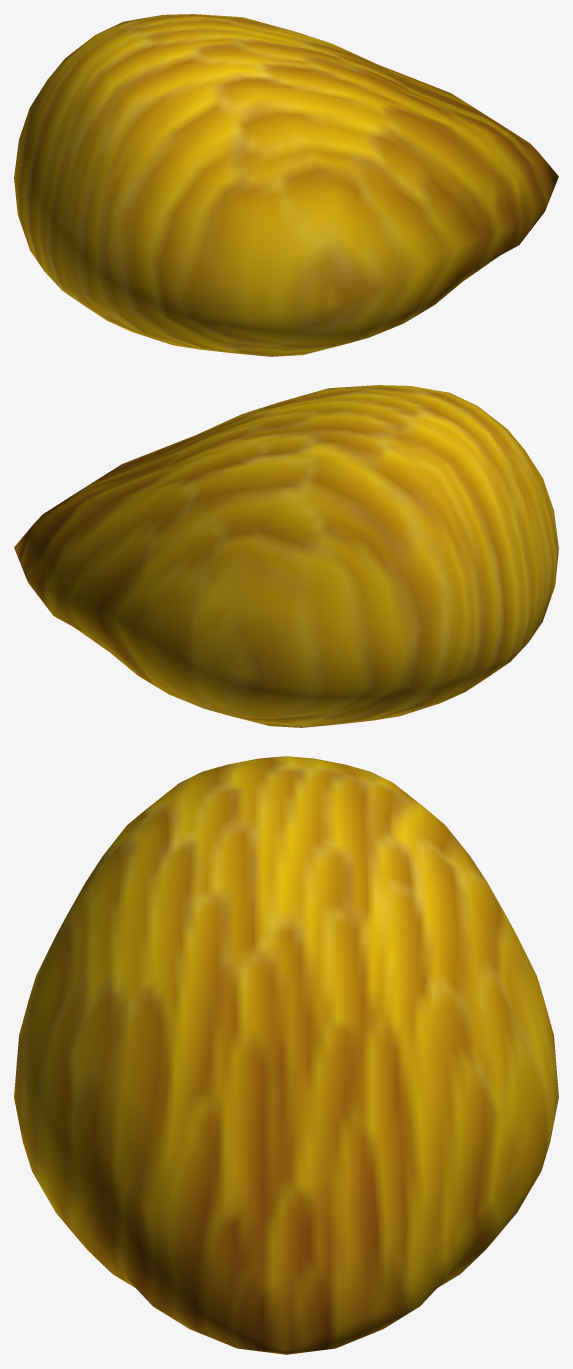
File: spider1.obj
3 renders of one model, top to bottom at view 1: azimuth 30°, elevation 25°; view 2: azimuth 150°, elevation 25°; view 3: azimuth 270°, elevation 25°, orthographic. The views are drawn at different scales.
Parts seen in each view (by area): view 1: ColobotMesh_1_ColobotMesh_; view 2: ColobotMesh_1_ColobotMesh_; view 3: ColobotMesh_1_ColobotMesh_.
Boxes of the visible parts, left/top/right/bottom form: ColobotMesh_1_ColobotMesh_: left=14, top=14, right=558, bottom=356; ColobotMesh_1_ColobotMesh_: left=14, top=385, right=558, bottom=727; ColobotMesh_1_ColobotMesh_: left=14, top=756, right=558, bottom=1354.
Size of the model in its own units: 6.27 by 3.65 by 4.29.
